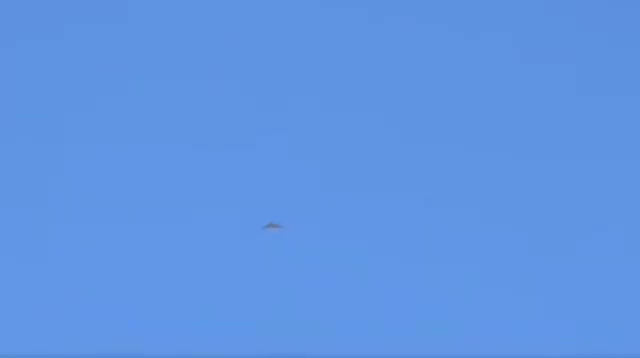shahed: (260, 220, 283, 231)
